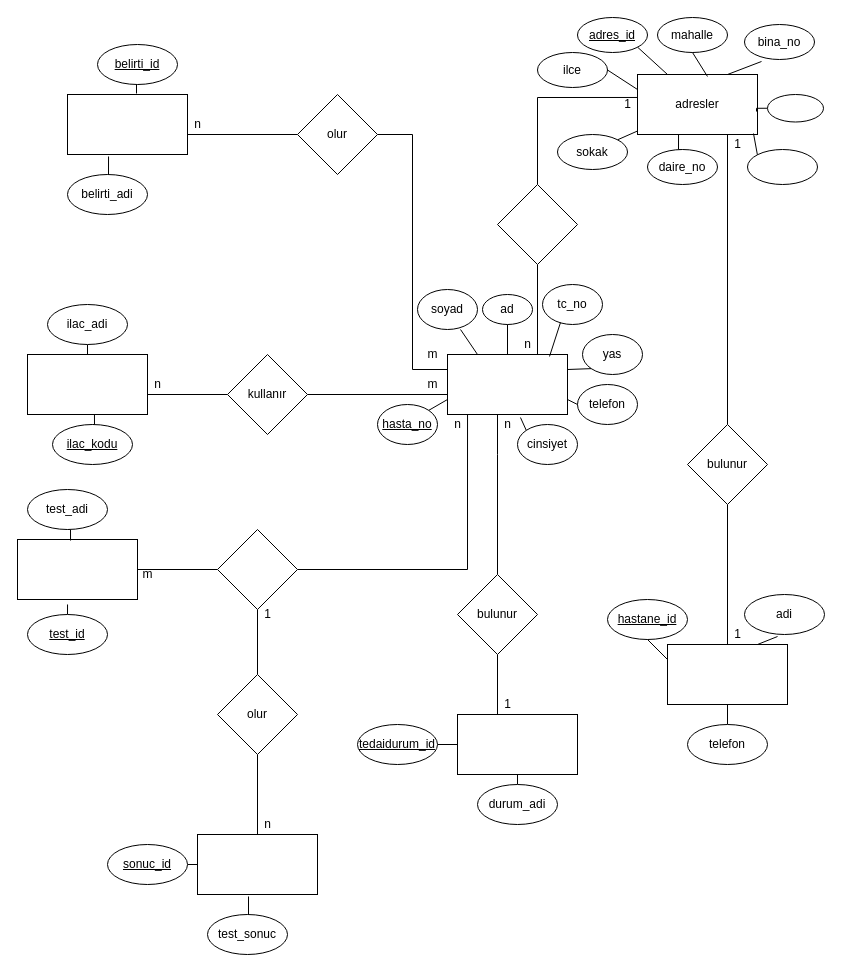
This 842x972 diagram has some shape labels left out. Each missing label, with the centre of its shape:
"belirtiler" goes at pixel 127 124.
"cadde" goes at pixel 782 166.
"hastalar" goes at pixel 507 384.
"hastaneler" goes at pixel 727 674.
"il" goes at pixel 795 108.
"ilaclar" goes at pixel 87 384.
"oturur" goes at pixel 537 224.
"tedavidurmlari" goes at pixel 517 744.
"testler" goes at pixel 77 569.
"testsonuclar" goes at pixel 257 864.
"yapar" goes at pixel 257 569.
